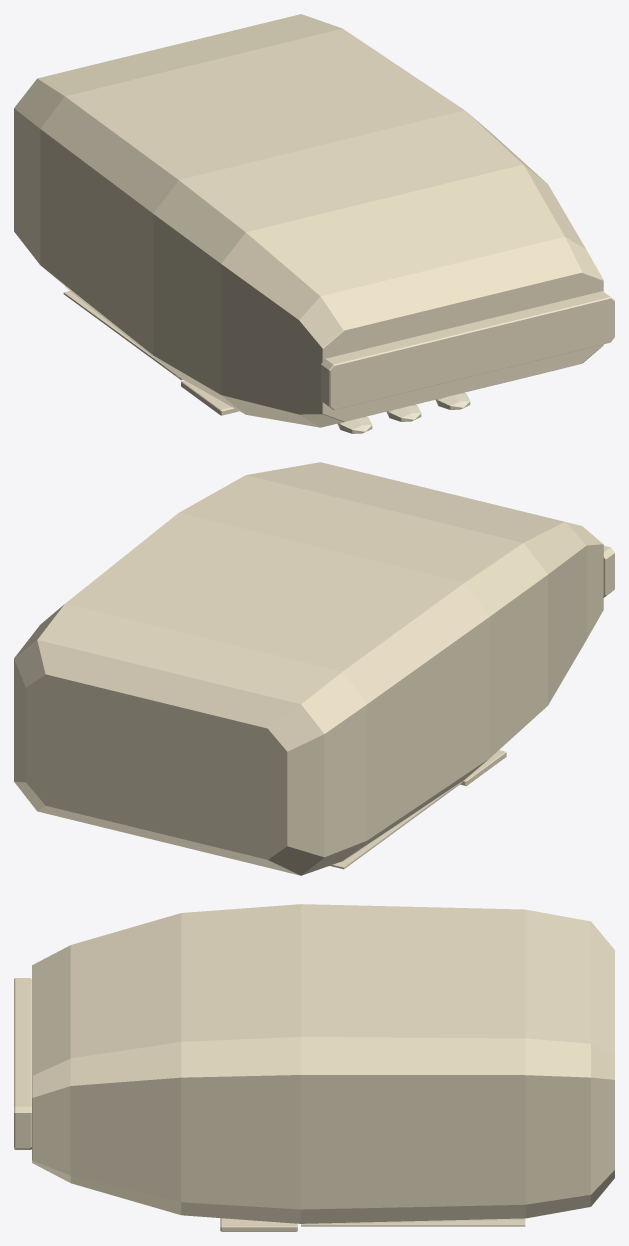
Rendered from white_beans.glb.
The picture shows the model from 3 angles, top to bottom: view 1: azimuth 30°, elevation 25°; view 2: azimuth 150°, elevation 25°; view 3: azimuth 270°, elevation 25°; orthographic projection. The views are drawn at different scales.
Parts seen in each view (by area): view 1: white_beans; view 2: white_beans; view 3: white_beans.
Boxes of the visible parts, left/top/right/bottom form: white_beans: left=14, top=14, right=614, bottom=433; white_beans: left=14, top=462, right=614, bottom=875; white_beans: left=14, top=904, right=614, bottom=1231.
Bounding box in the file's own units: 0.1236 × 0.0746 × 0.201.
